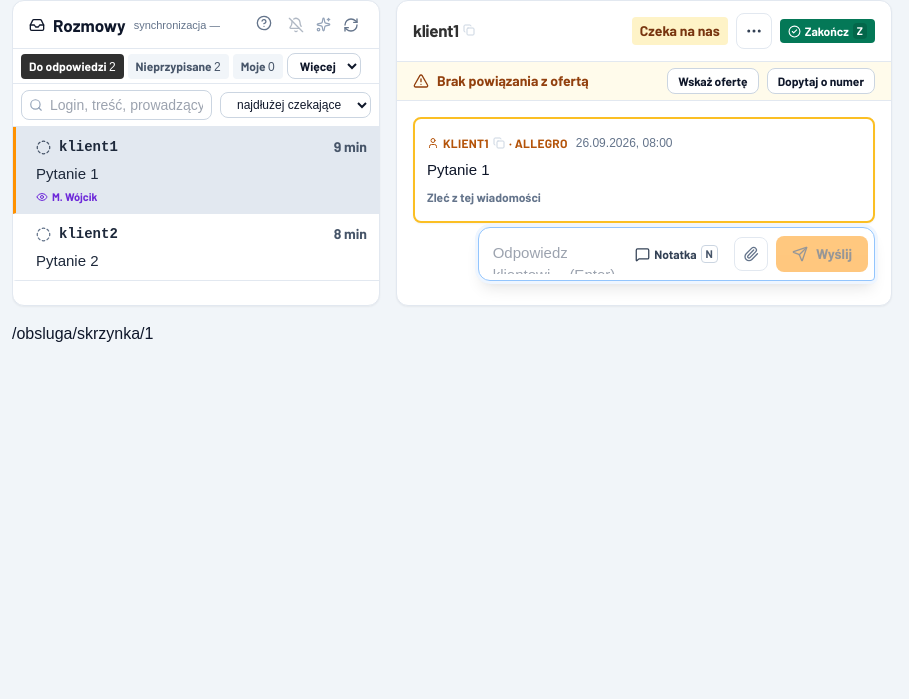
Test case: EKRAN SKRZYNKI: pętla pracy › klient dopisał — wysyłka pyta od razu, zamiast odkładać odpowiedź na dziesięć sekund
In the text box named "Szkic odpowiedzi": (556, 254) [493,234,619,274], type "Odpowiedź"
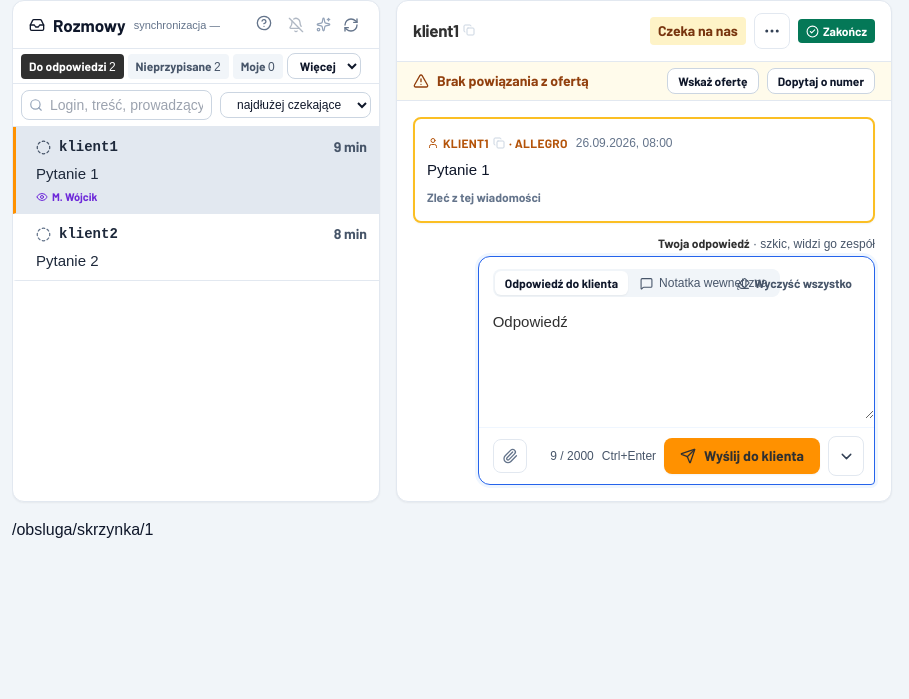
Click the button "Wyślij do klienta": (742, 456) [664,438,820,474]
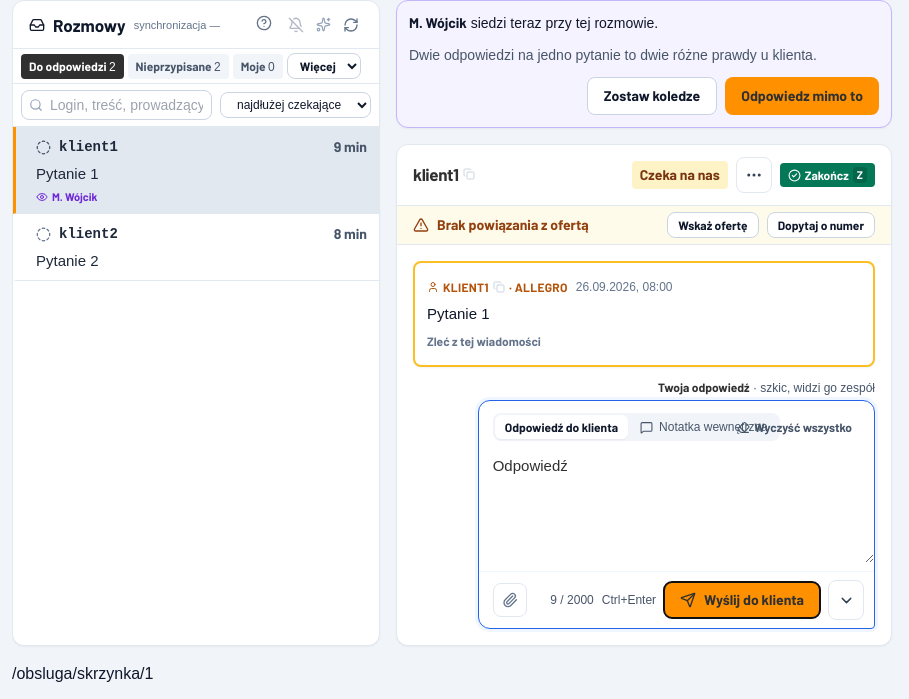
Expected: the text named "adres" reads "/obsluga/skrzynka/1", [12,665,153,682]
Expected: the text "M. Wójcik siedzi teraz przy tej rozmowie." is shown, [409,13,658,33]
